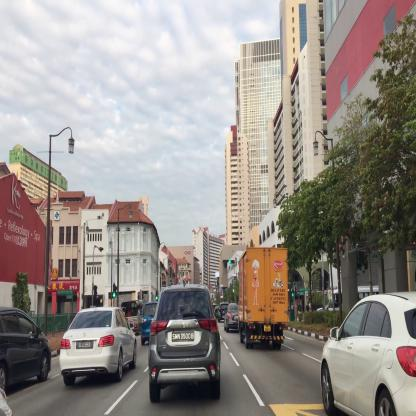green_traffic_light: (113, 284, 116, 296), (156, 291, 158, 300), (228, 260, 234, 263)
